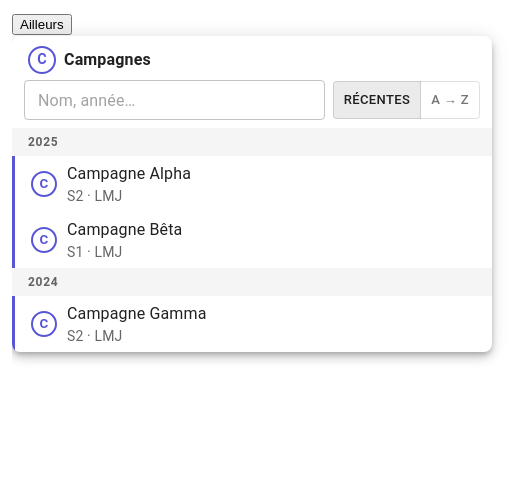
Scenario: EntityRefPicker — étape 2 (références de la campagne) › le bouton retour revient à l’étape 1 (première campagne focalisée) et vide le filtre interne
The image size is (515, 487).
Click the menu item "C Campagne Alpha S2 · LMJ". click: (129, 174)
box: [12, 156, 492, 212]
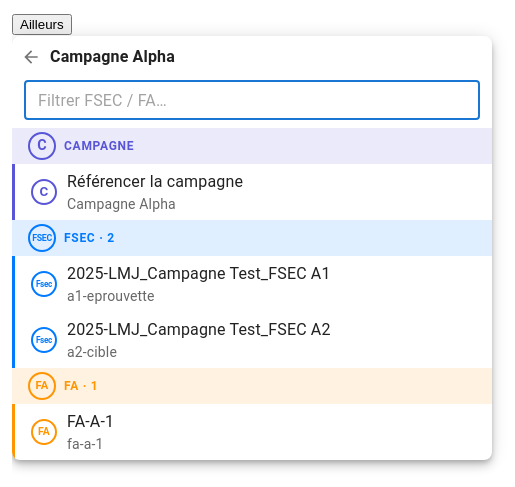
Type "a1" into the field named "Filtrer les références". click: (252, 100)
box: [24, 80, 480, 120]
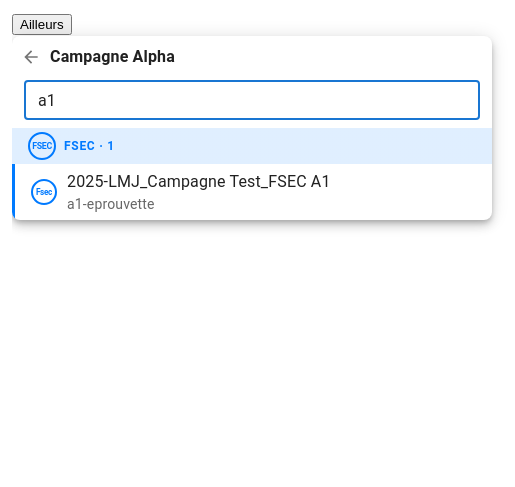
Click the button named "Toutes les campagnes". click: (31, 57)
box: [16, 42, 46, 72]
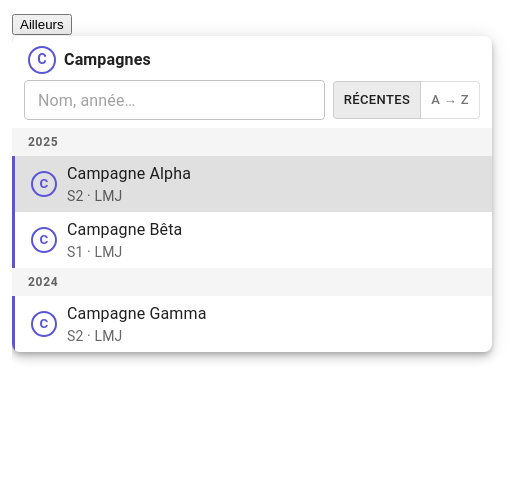
Result: the number of menu items is 3
Result: the field named "Filtrer les campagnes" is empty at [24, 80, 325, 120]
Click the menu item "C Campagne Bêta S1 · LMJ". click: (125, 230)
box: [12, 212, 492, 268]
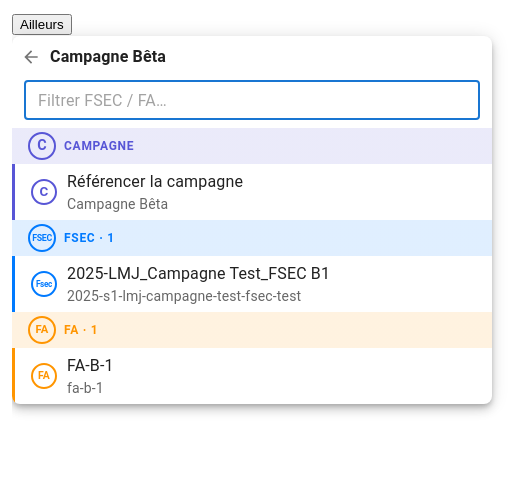
Result: the field named "Filtrer les références" is empty at [24, 80, 480, 120]
Result: the menu item "FSEC B1" is shown at [12, 256, 492, 312]
